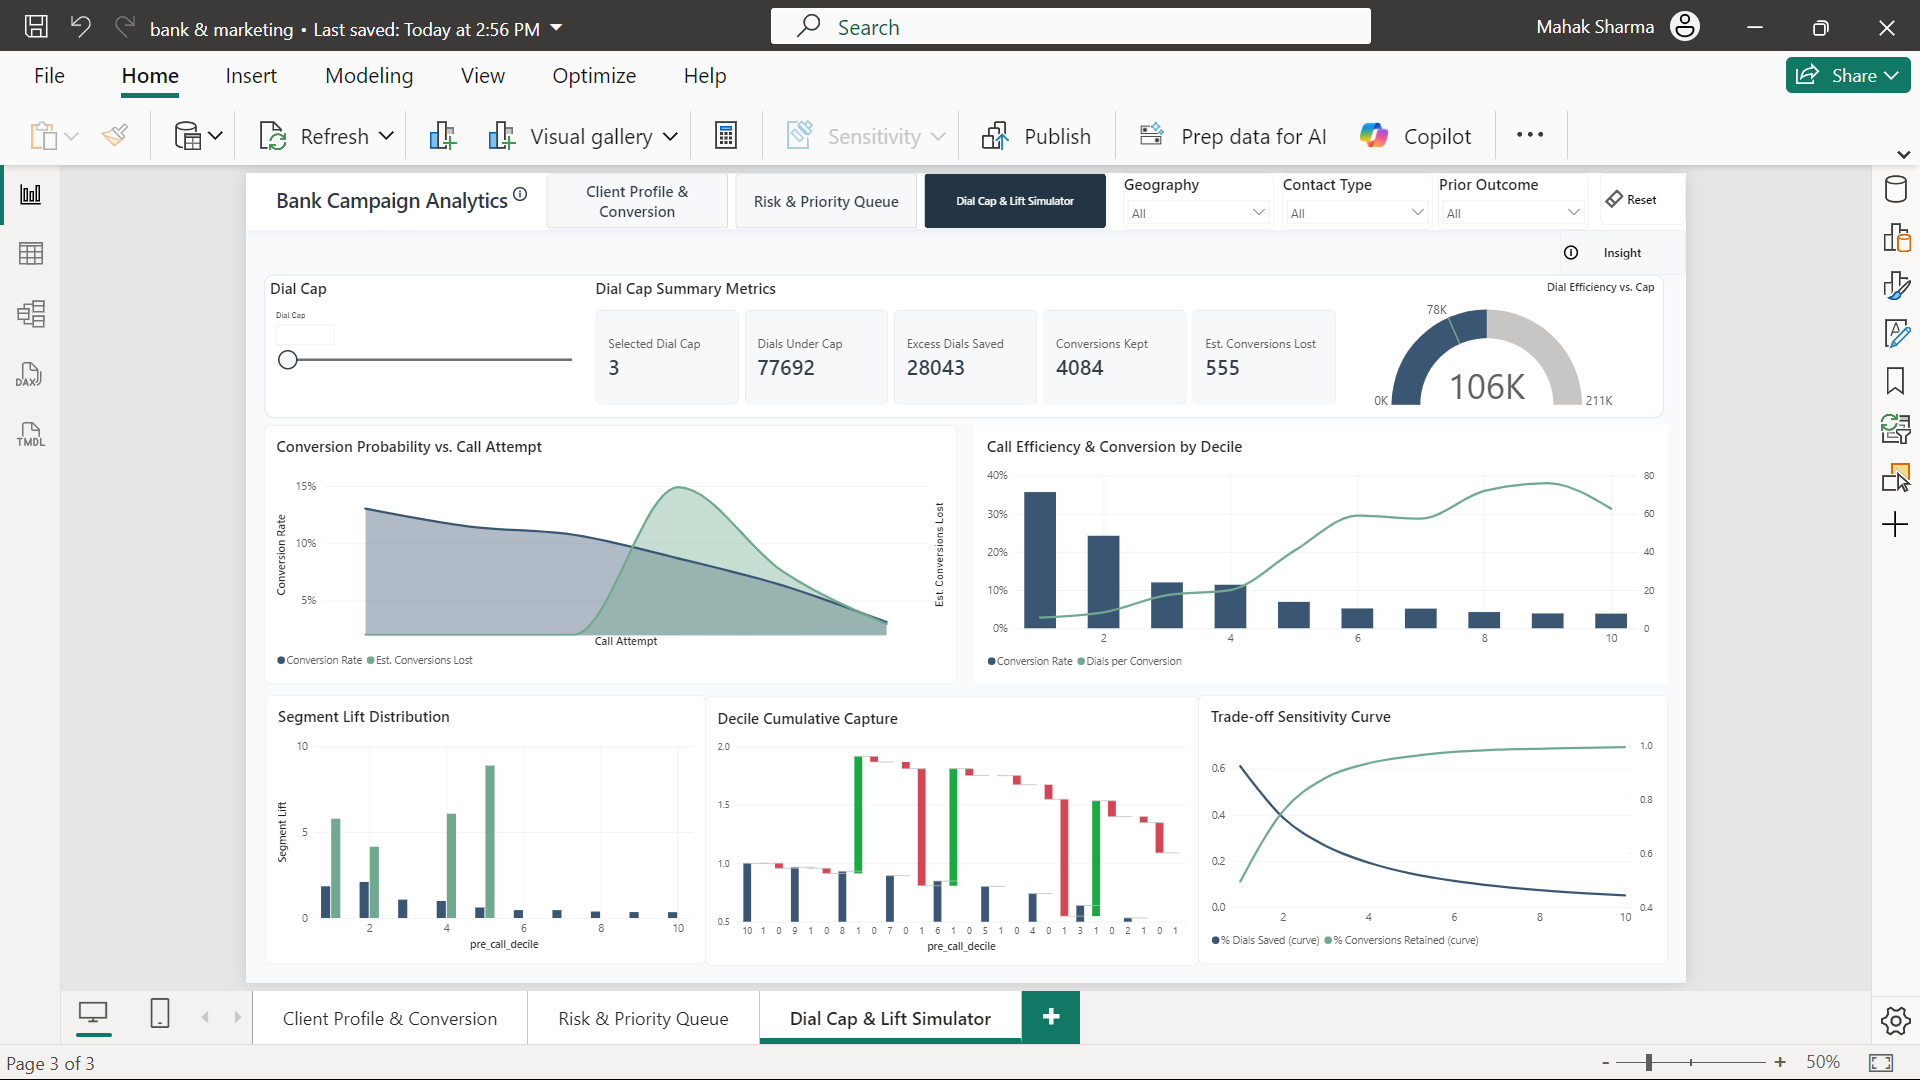

What the dashboard file says about the page in this screenshot:
{"tool":"powerbi","page":{"name":"Dial Cap & Lift Simulator","canvas":[1920,1080],"ordinal":2},"visuals":[{"type":"cardVisual","title":"Dial Cap Summary Metrics","fields":{"Data":["Max Dial Cap.Selected Dial Cap","_Measures.Dials Under Cap","_Measures.Excess Dials Saved","_Measures.Conversions Kept","_Measures.Est. Conversions Lost"]},"box":[466.7,139.6,991.7,168.8],"z":0},{"type":"areaChart","title":"Conversion Probability vs. Call Attempt","fields":{"Category":["dim_campaign.call_bucket"],"Y":["_Measures.Conversion Rate"],"Y2":["_Measures.Est. Conversions Lost"]},"box":[24,335,924,345],"z":1000},{"type":"lineClusteredColumnComboChart","title":"Call Efficiency & Conversion by Decile","fields":{"Category":["fact_calls.pre_call_decile"],"Y":["_Measures.Conversion Rate"],"Y2":["_Measures.Dials per Conversion"]},"box":[972,335,924,345],"z":2000},{"type":"slicer","title":"Dial Cap","fields":{"Values":["Max Dial Cap.Max Dial Cap"]},"box":[31.2,139.6,420.8,175],"z":3000},{"type":"clusteredColumnChart","title":"Segment Lift Distribution","fields":{"Category":["fact_calls.pre_call_decile"],"Series":["dim_campaign.previously_contacted"],"Y":["_Measures.Segment Lift"]},"box":[25,695.8,587.5,358.3],"z":4000},{"type":"waterfallChart","title":"Decile Cumulative Capture","fields":{"Breakdown":["dim_campaign.previously_contacted"],"Category":["fact_calls.pre_call_decile"],"Y":["_Measures.Decile Cum Capture %"]},"box":[612.5,697.9,658.3,358.3],"z":5000},{"type":"lineChart","title":"Trade-off Sensitivity Curve","fields":{"Category":["Max Dial Cap.Max Dial Cap"],"Y":["_Measures.% Dials Saved (curve)"],"Y2":["_Measures.% Conversions Retained (curve)"]},"box":[1270.8,695.8,625,358.3],"z":6000},{"type":"actionButton","box":[1752,76,168,60],"z":7000},{"type":"gauge","title":"Dial Efficiency vs. Cap","fields":{"TargetValue":["_Measures.Dials Under Cap"],"Y":["_Measures.Dials"]},"box":[1445.8,140,433.3,175],"z":9000},{"type":"actionButton","box":[1805.7,0,113.6,69.5],"z":10000},{"type":"actionButton","box":[340,0,50,56.2],"z":11000},{"type":"pageNavigator","box":[400,0,750,75],"z":12000},{"type":"slicer","title":"Geography","fields":{"Values":["dim_client.assigned_region"]},"box":[1170,0,200,75],"z":13000},{"type":"slicer","title":"Contact Type","fields":{"Values":["dim_campaign.contact_direction"]},"box":[1381.2,0,200,75],"z":14000},{"type":"slicer","title":"Prior Outcome","fields":{"Values":["dim_campaign.previous_outcome"]},"box":[1590,0,200,75],"z":15000}]}

Visuals, with their boxes on the page's 1920x1080 design canvas (x1, y1, x2, y2). These are canvas units, not pixel positions in the 1920x1080 screenshot, which may show the page scaled, cropped or inside an application window:
"Dial Cap Summary Metrics" cardVisual: box=[467, 140, 1458, 308]
"Conversion Probability vs. Call Attempt" areaChart: box=[24, 335, 948, 680]
"Call Efficiency & Conversion by Decile" lineClusteredColumnComboChart: box=[972, 335, 1896, 680]
"Dial Cap" slicer: box=[31, 140, 452, 315]
"Segment Lift Distribution" clusteredColumnChart: box=[25, 696, 612, 1054]
"Decile Cumulative Capture" waterfallChart: box=[612, 698, 1271, 1056]
"Trade-off Sensitivity Curve" lineChart: box=[1271, 696, 1896, 1054]
actionButton: box=[1752, 76, 1920, 136]
"Dial Efficiency vs. Cap" gauge: box=[1446, 140, 1879, 315]
actionButton: box=[1806, 0, 1919, 70]
actionButton: box=[340, 0, 390, 56]
pageNavigator: box=[400, 0, 1150, 75]
"Geography" slicer: box=[1170, 0, 1370, 75]
"Contact Type" slicer: box=[1381, 0, 1581, 75]
"Prior Outcome" slicer: box=[1590, 0, 1790, 75]
